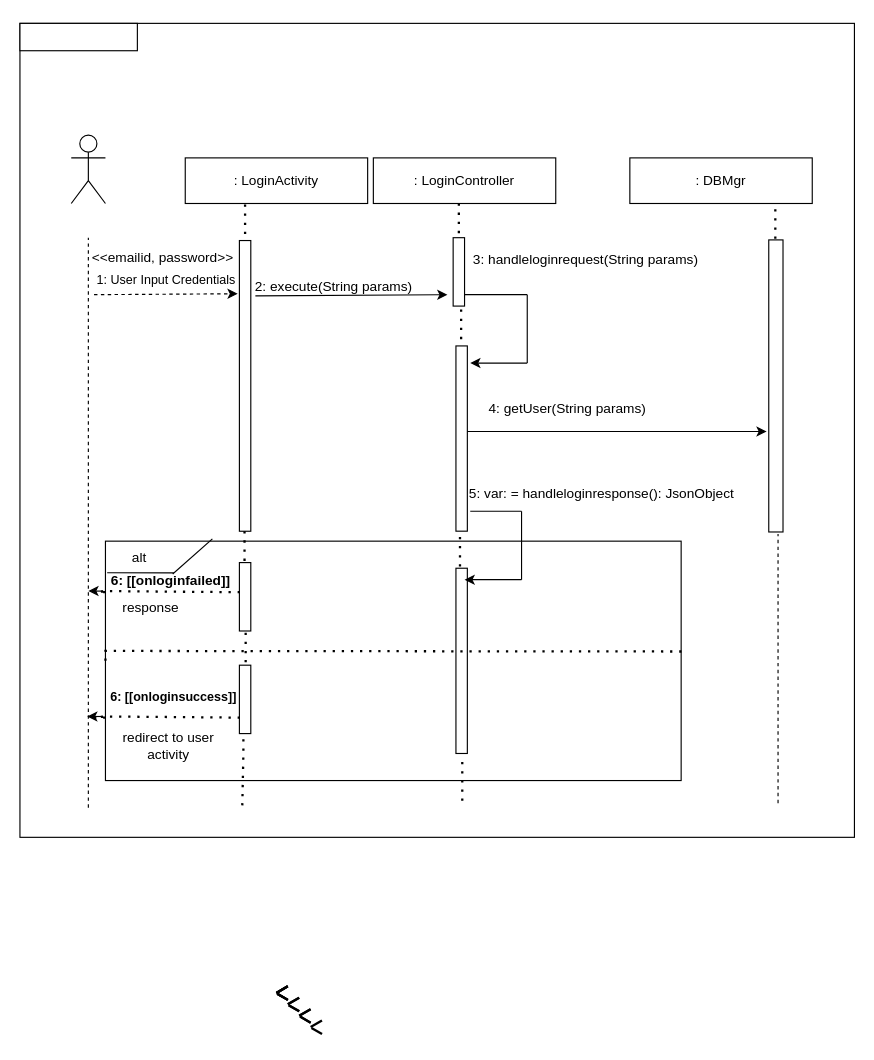
The diagram is 874 pixels wide and 1060 high, and some of its shapes have lost their labels. The centre of each missing label's shape, as x and y in pixels:
"sd User Login" goes at (x=78, y=36).
"User" goes at (x=87, y=168).
